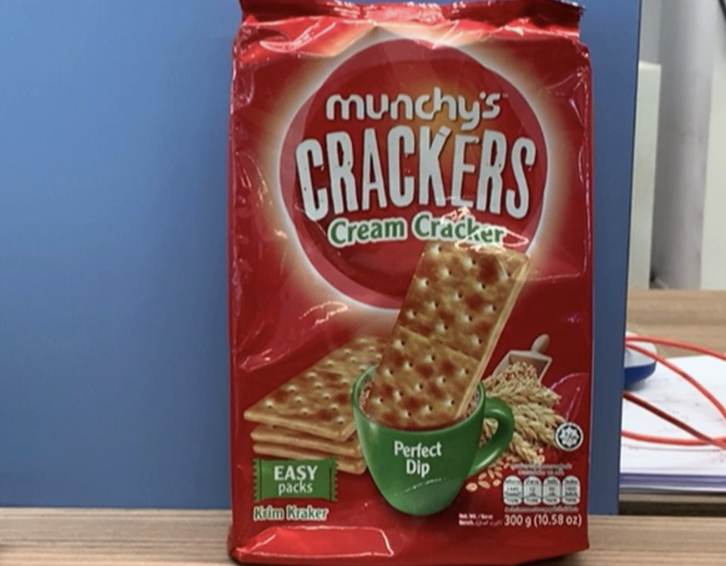crackers_150g: (251, 58, 586, 540)
